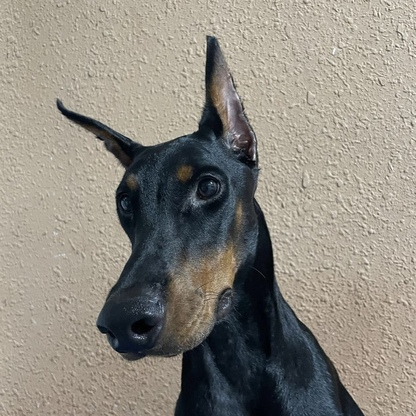doberman: (52, 35, 367, 416)
